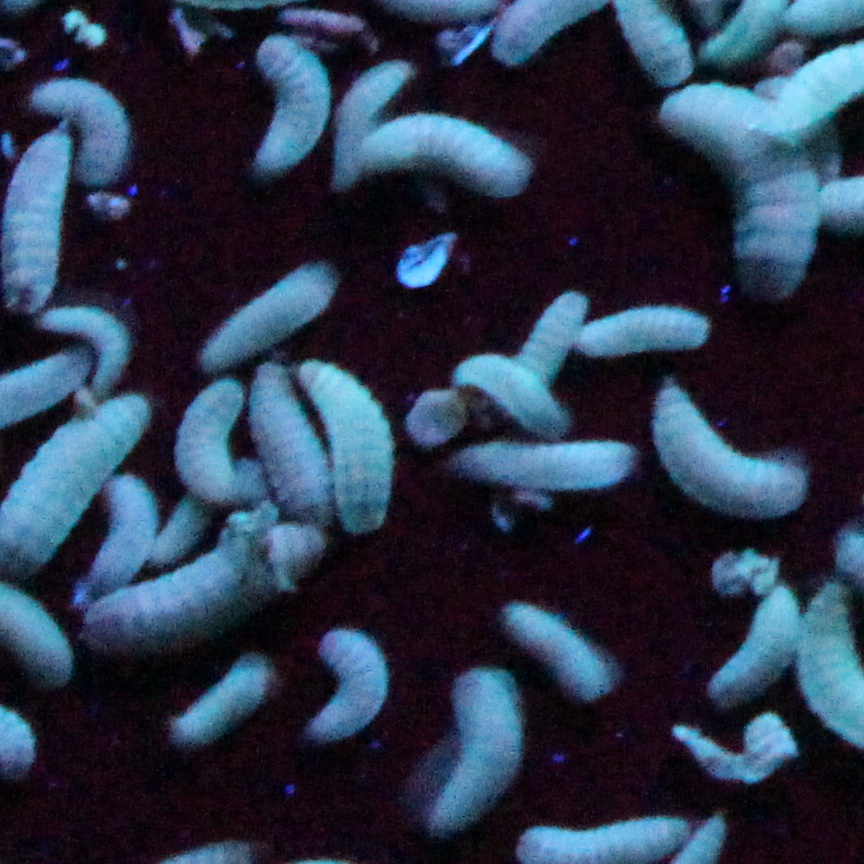larve: (656, 75, 816, 295), (93, 536, 300, 669), (0, 401, 151, 569), (650, 388, 812, 517), (300, 349, 387, 533), (354, 108, 541, 193), (242, 362, 335, 530), (441, 662, 523, 844), (201, 266, 334, 368), (27, 75, 132, 184), (6, 130, 68, 310), (254, 31, 332, 173), (505, 602, 614, 695), (447, 355, 570, 437), (310, 628, 390, 748), (168, 381, 242, 507), (445, 448, 632, 493), (174, 653, 263, 746), (714, 584, 785, 700), (35, 304, 129, 388), (581, 308, 712, 360), (341, 66, 405, 131), (530, 297, 570, 373)
